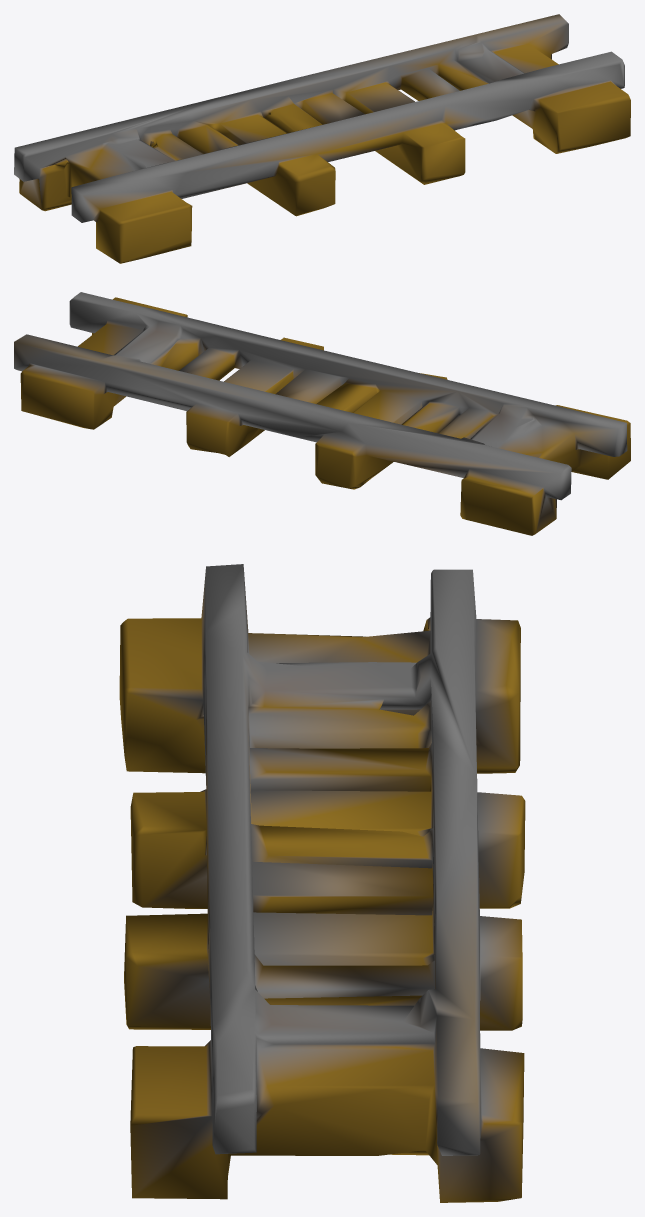
Rendered from gen3d-rail-lod1.glb.
3 renders of one model, top to bottom at view 1: azimuth 30°, elevation 25°; view 2: azimuth 150°, elevation 25°; view 3: azimuth 270°, elevation 25°, orthographic. The views are drawn at different scales.
Parts seen in each view (by area): view 1: part_0; view 2: part_0; view 3: part_0.
Part boxes in pixels (left/top/right/bottom): part_0: left=14, top=14, right=630, bottom=263; part_0: left=14, top=292, right=630, bottom=535; part_0: left=119, top=564, right=525, bottom=1202.
Size of the model in its own units: 8.93 by 0.9962 by 2.87.
